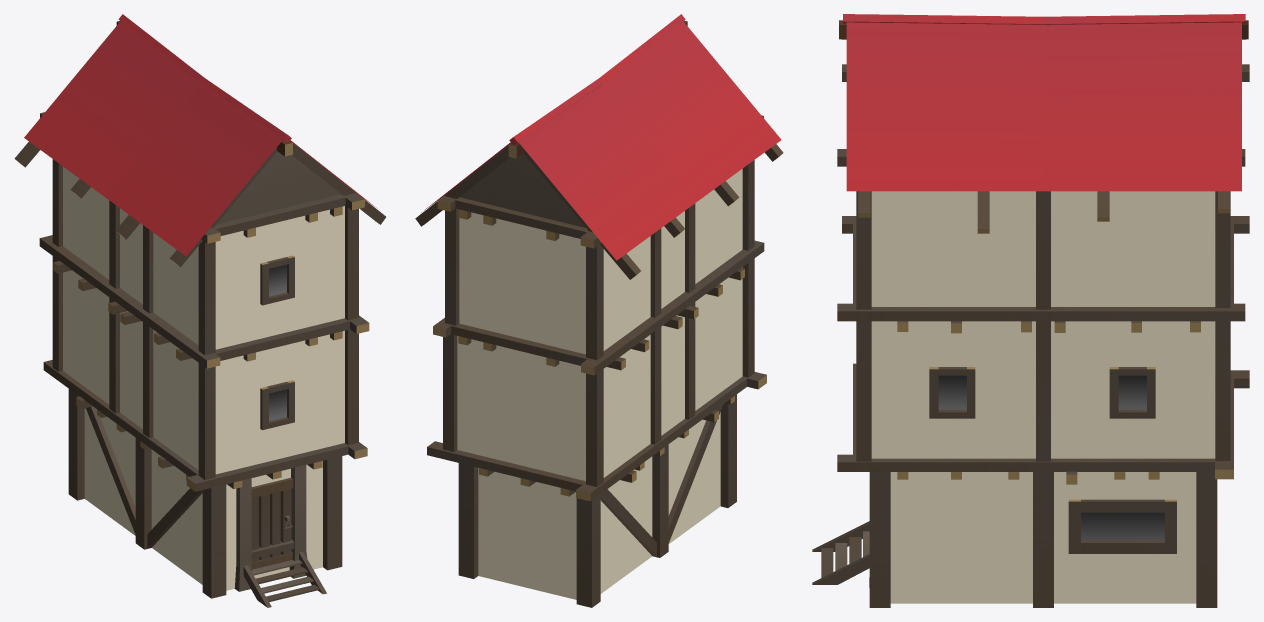
The model's file is House_14_LOD1.fbx.
3 renders of one model, left to right at view 1: azimuth 30°, elevation 25°; view 2: azimuth 150°, elevation 25°; view 3: azimuth 270°, elevation 25°, orthographic. The views are drawn at different scales.
Parts seen in each view (by area): view 1: polySurface9623; view 2: polySurface9623; view 3: polySurface9623.
Part boxes in pixels (box(x1,y1,x2,y2)): polySurface9623: box(14, 14, 385, 607); polySurface9623: box(415, 14, 783, 607); polySurface9623: box(812, 14, 1249, 607).
Bounding box in the file's own units: 590 × 1126 × 804.
